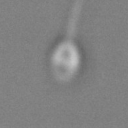normal: (64, 1, 85, 36)
